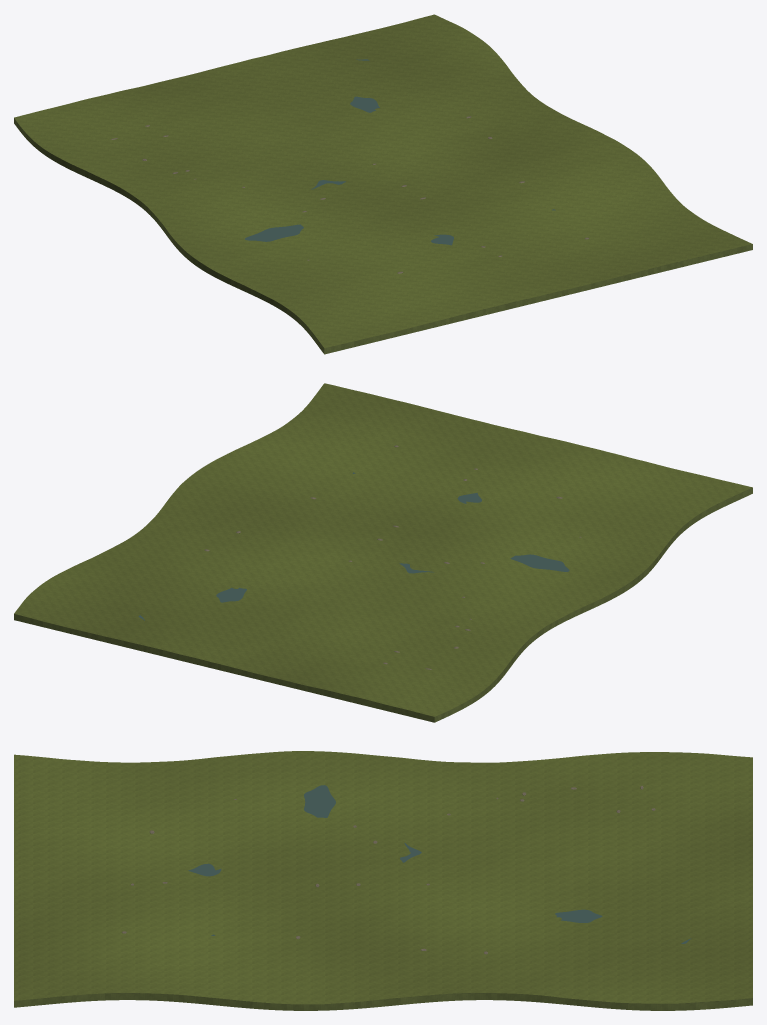
The model's file is ch09_songpan_wetland.glb.
The picture shows the model from 3 angles, top to bottom: view 1: azimuth 30°, elevation 25°; view 2: azimuth 150°, elevation 25°; view 3: azimuth 270°, elevation 25°; orthographic projection. The views are drawn at different scales.
Parts seen in each view (by area): view 1: terrain__eroded_landscape, terrain_boundary__closed_earth_boundary, water_placeholder; view 2: terrain__eroded_landscape, terrain_boundary__closed_earth_boundary, water_placeholder; view 3: terrain__eroded_landscape, terrain_boundary__closed_earth_boundary, water_placeholder.
Boxes of the visible parts, left/top/right/bottom form: terrain__eroded_landscape: left=14, top=14, right=752, bottom=348; terrain_boundary__closed_earth_boundary: left=14, top=118, right=752, bottom=354; water_placeholder: left=245, top=59, right=555, bottom=245; terrain__eroded_landscape: left=14, top=383, right=752, bottom=716; terrain_boundary__closed_earth_boundary: left=14, top=487, right=752, bottom=722; water_placeholder: left=138, top=472, right=569, bottom=620; terrain__eroded_landscape: left=14, top=751, right=752, bottom=1004; terrain_boundary__closed_earth_boundary: left=14, top=993, right=752, bottom=1010; water_placeholder: left=188, top=785, right=691, bottom=943.
Size of the model in its own units: 178 by 2.62 by 220.
Materials: 4 (3 with a texture image).
